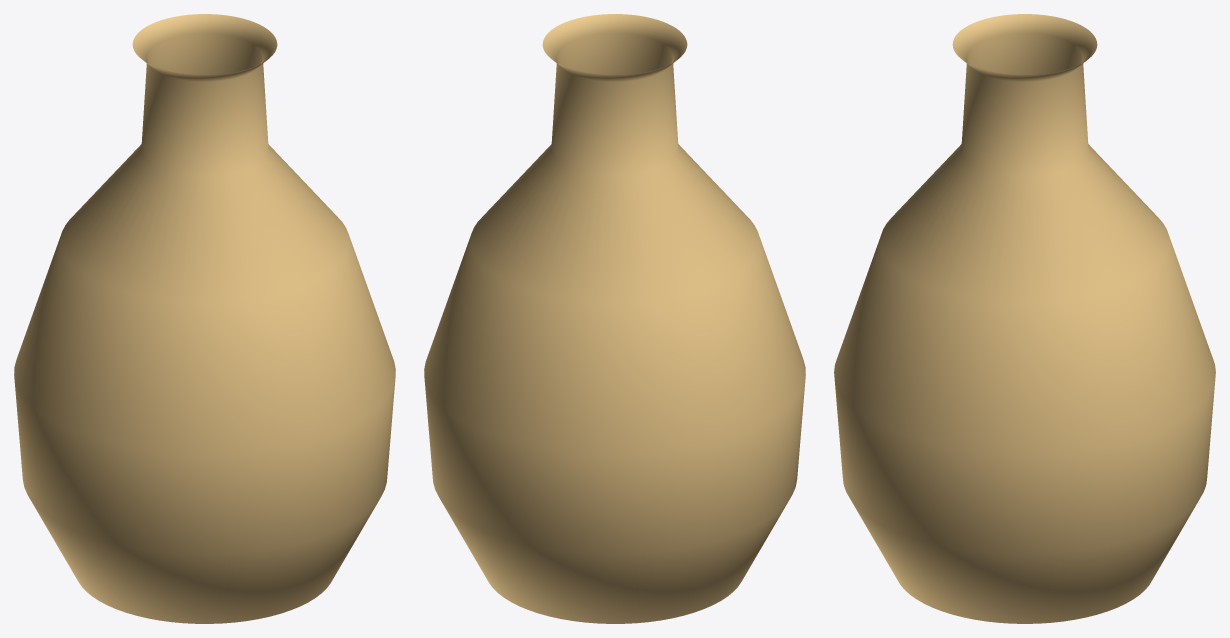
File: interior-vase.glb
3 renders of one model, left to right at view 1: azimuth 30°, elevation 25°; view 2: azimuth 150°, elevation 25°; view 3: azimuth 270°, elevation 25°, orthographic.
Parts seen in each view (by area): view 1: Forma Monogram; view 2: Forma Monogram; view 3: Forma Monogram.
Part boxes in pixels (box(x1,y1,x2,y2)): Forma Monogram: box(14, 14, 395, 623); Forma Monogram: box(424, 14, 805, 623); Forma Monogram: box(834, 14, 1215, 623).
Bounding box in the file's own units: 1.32 × 2.05 × 1.32.
